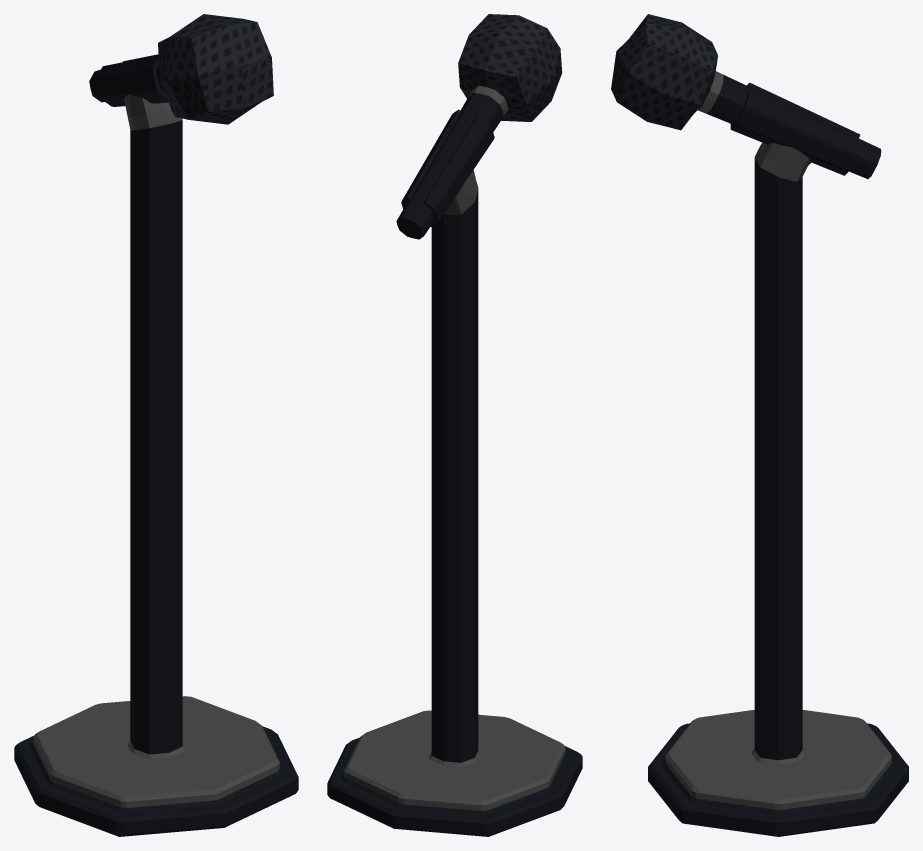
The model's file is microphone-and-stand.glb.
3 renders of one model, left to right at view 1: azimuth 30°, elevation 25°; view 2: azimuth 150°, elevation 25°; view 3: azimuth 270°, elevation 25°, orthographic. The views are drawn at different scales.
Visible parts, largest first — view 1: Mic Stand, Mic; view 2: Mic Stand, Mic; view 3: Mic Stand, Mic.
Boxes of the visible parts, x1,y1,x2,y2 form: Mic Stand: (14,54,298,836); Mic: (89,14,273,124); Mic Stand: (327,109,582,836); Mic: (396,14,562,239); Mic Stand: (648,82,908,836); Mic: (611,14,881,178).
Size of the model in its own units: 4.87 by 15.65 by 5.57.
Materials: 1 (1 with a texture image).
